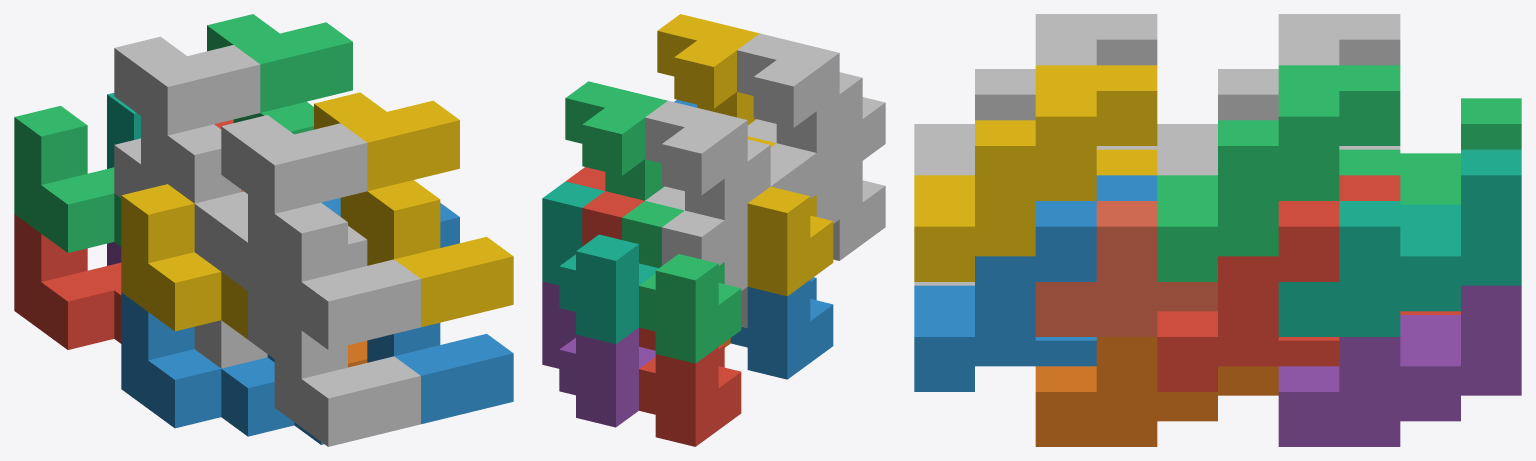
The model's file is tiling.obj.
3 views of the same model, side by side, from view 1: azimuth 30°, elevation 25°; view 2: azimuth 150°, elevation 25°; view 3: azimuth 270°, elevation 25° (orthographic). The views are drawn at different scales.
Parts seen in each view (by area): view 1: copy_2_domain_4, copy_2_domain_8, copy_2_domain_3, copy_2_domain_2, copy_1_domain_2, copy_1_domain_4, copy_1_domain_3, copy_1_domain_1, copy_2_domain_7, copy_2_domain_6, copy_2_domain_1, copy_1_domain_7; view 2: copy_2_domain_4, copy_2_domain_3, copy_1_domain_7, copy_1_domain_3, copy_1_domain_5, copy_2_domain_7, copy_1_domain_1, copy_1_domain_4, copy_2_domain_2, copy_2_domain_8, copy_1_domain_2, copy_2_domain_1 (+1 smaller); view 3: copy_2_domain_7, copy_2_domain_8, copy_1_domain_7, copy_1_domain_5, copy_2_domain_6, copy_2_domain_5, copy_1_domain_6, copy_1_domain_8, copy_2_domain_3, copy_2_domain_4, copy_1_domain_3, copy_1_domain_1 (+2 smaller).
Part boxes in pixels (box(x1,y1,x2,y2)): copy_2_domain_4: box(221, 115, 420, 349); copy_2_domain_8: box(314, 92, 513, 327); copy_2_domain_3: box(114, 36, 260, 271); copy_2_domain_2: box(221, 216, 420, 446); copy_1_domain_2: box(121, 292, 323, 444); copy_1_domain_4: box(121, 184, 247, 339); copy_1_domain_3: box(14, 105, 121, 252); copy_1_domain_1: box(14, 214, 121, 349); copy_2_domain_7: box(207, 14, 352, 134); copy_2_domain_6: box(321, 198, 513, 424); copy_2_domain_1: box(114, 138, 267, 368); copy_1_domain_7: box(107, 93, 140, 168); copy_2_domain_4: box(737, 33, 885, 177); copy_2_domain_3: box(645, 100, 793, 219); copy_1_domain_7: box(542, 181, 658, 344); copy_1_domain_3: box(622, 201, 741, 363); copy_1_domain_5: box(542, 281, 655, 427); copy_2_domain_7: box(565, 81, 667, 200); copy_1_domain_1: box(639, 327, 741, 446); copy_1_domain_4: box(747, 136, 833, 296); copy_2_domain_2: box(747, 119, 885, 260); copy_2_domain_8: box(657, 14, 759, 125); copy_1_domain_2: box(730, 277, 833, 379); copy_2_domain_1: box(645, 186, 747, 328); copy_2_domain_7: box(1157, 65, 1400, 281); copy_2_domain_8: box(914, 65, 1157, 281); copy_1_domain_7: box(1278, 149, 1521, 336); copy_1_domain_5: box(1278, 285, 1521, 446); copy_2_domain_6: box(914, 175, 1157, 391); copy_2_domain_5: box(1157, 175, 1400, 391); copy_1_domain_6: box(1035, 337, 1278, 446); copy_1_domain_8: box(1035, 201, 1217, 336); copy_2_domain_3: box(1157, 14, 1400, 175); copy_2_domain_4: box(914, 14, 1157, 175); copy_1_domain_3: box(1339, 98, 1521, 204); copy_1_domain_1: box(1278, 311, 1460, 366).
Bounding box in the file's own units: 5 × 6 × 10.
